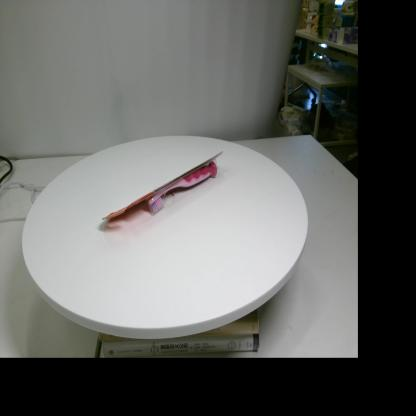Personal Hygiene: (102, 151, 223, 220)
